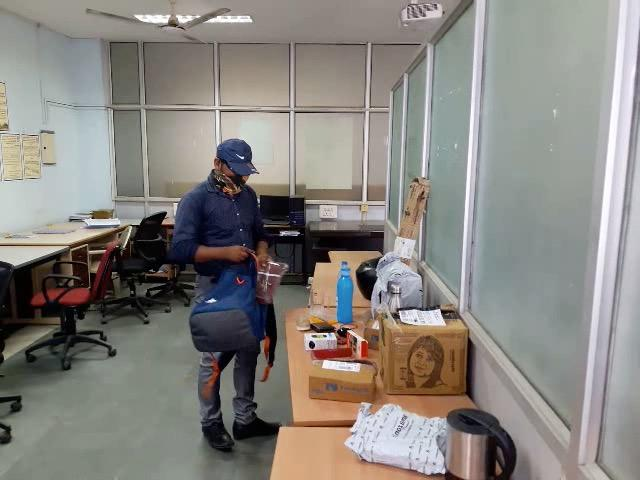Normal: (16, 22, 496, 467)
shoplifting: (161, 214, 340, 363)
